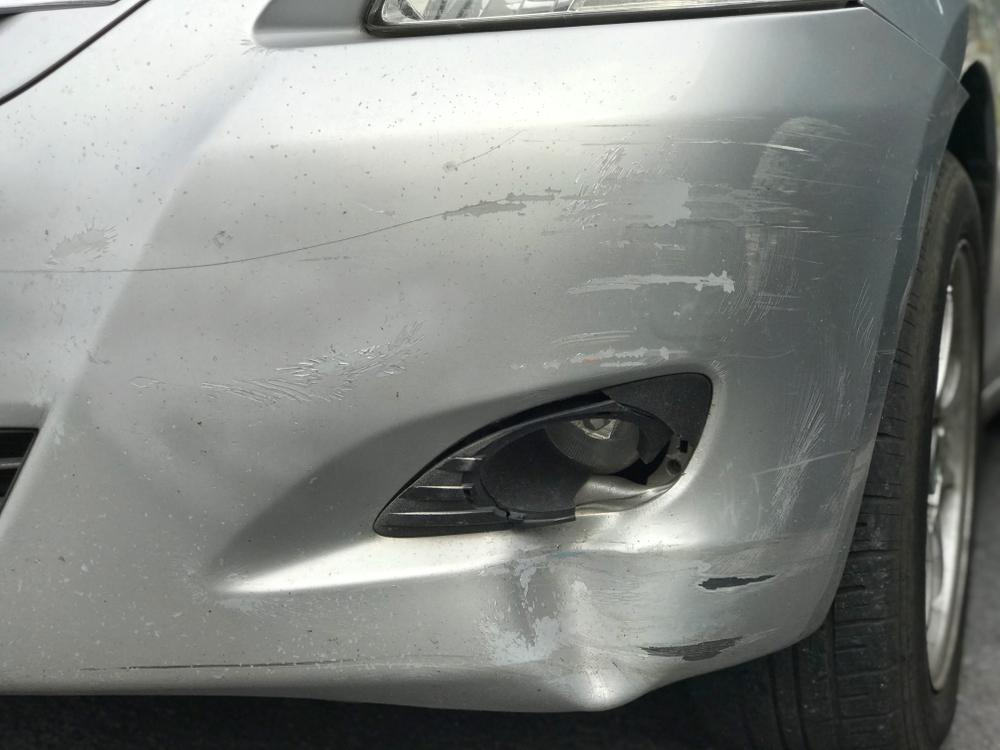dent: (499, 511, 700, 706)
scratch: (459, 115, 885, 664), (186, 321, 429, 420)
